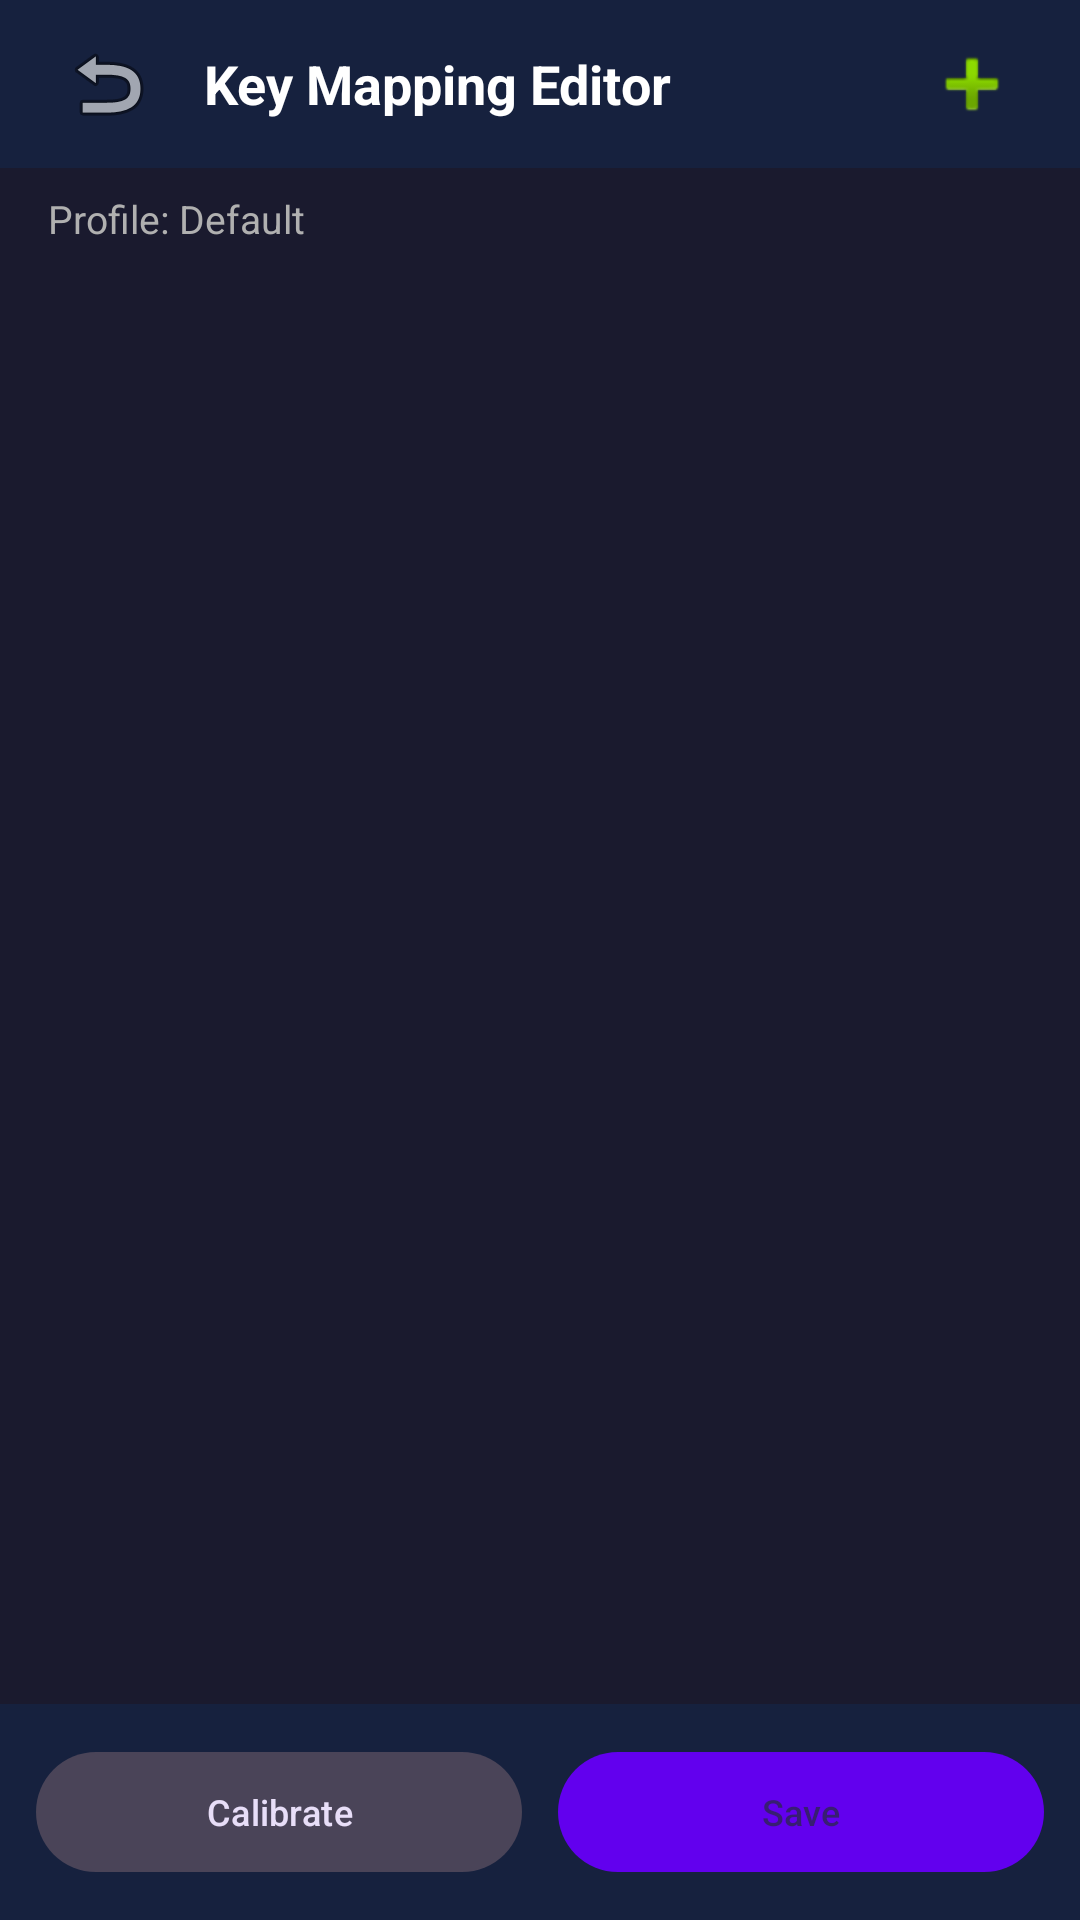

Where icons sit on this 1080w x 1920h app screen, as [x1=x1, y1=y1, x2=x2, y2=y2]:
Add mapping: [x1=945, y1=57, x2=999, y2=111]
Back: [x1=75, y1=54, x2=143, y2=115]
